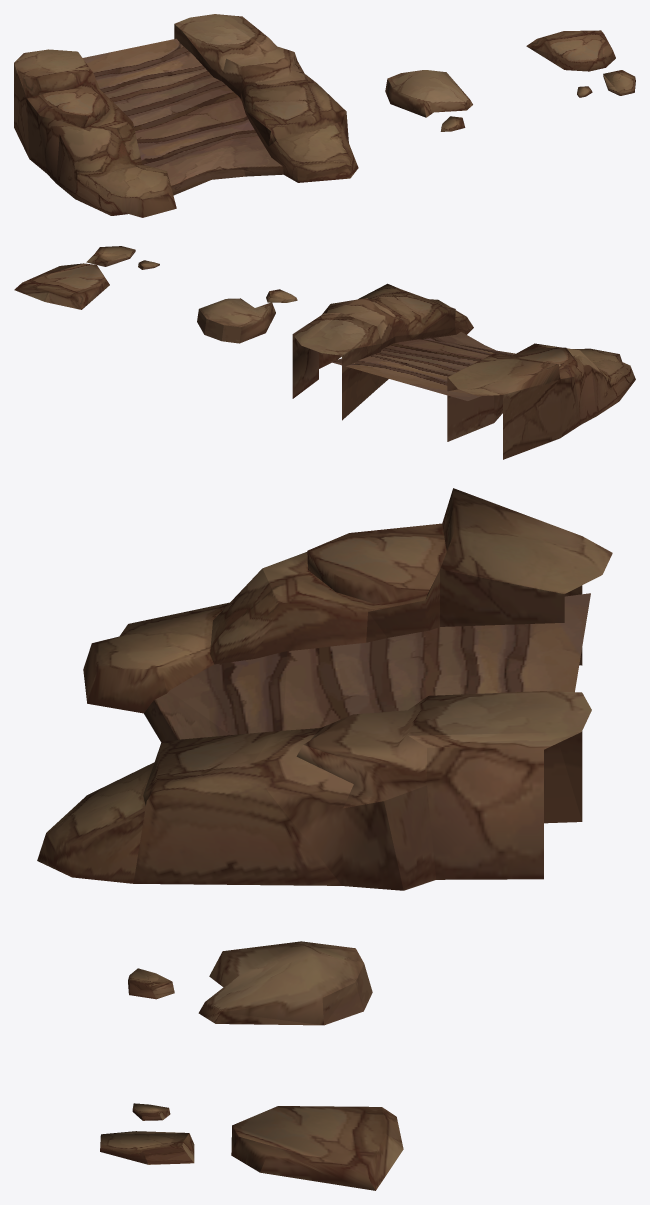
File: 2_DG_ShiJie_01.FBX
3 views of the same model, one above another, from view 1: azimuth 30°, elevation 25°; view 2: azimuth 150°, elevation 25°; view 3: azimuth 270°, elevation 25° (orthographic). The views are drawn at different scales.
Visible parts, largest first — view 1: 2_DG_ShiJie_01_01, 2_DG_ShiJie_01_03, 2_DG_ShiJie_01_02; view 2: 2_DG_ShiJie_01_01, 2_DG_ShiJie_01_03, 2_DG_ShiJie_01_02; view 3: 2_DG_ShiJie_01_01, 2_DG_ShiJie_01_03, 2_DG_ShiJie_01_02.
Part boxes in pixels (x1,y1,x2,y2): 2_DG_ShiJie_01_01: (14, 14, 358, 217); 2_DG_ShiJie_01_03: (526, 30, 635, 97); 2_DG_ShiJie_01_02: (385, 70, 472, 131); 2_DG_ShiJie_01_01: (292, 283, 635, 459); 2_DG_ShiJie_01_03: (14, 246, 159, 309); 2_DG_ShiJie_01_02: (197, 289, 297, 343); 2_DG_ShiJie_01_01: (37, 488, 612, 890); 2_DG_ShiJie_01_03: (100, 1103, 403, 1190); 2_DG_ShiJie_01_02: (128, 941, 372, 1025).
Size of the model in its own units: 1284 by 170 by 566.
Materials: 1 (1 with a texture image).
